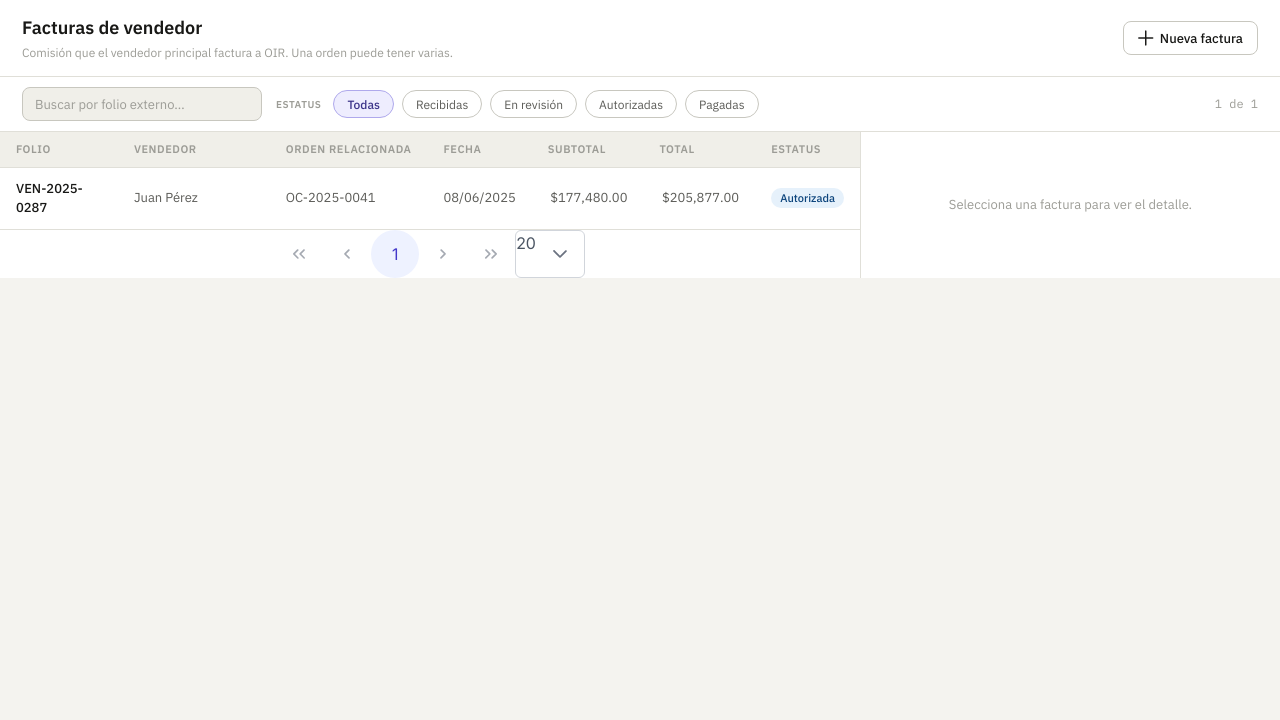
Test case: FacturasVendedorPage — paridad con Facturas de agencia › el timeline muestra las 4 fases reales, en orden
Click the text "VEN-2025-0287" at [59, 198], box [0, 167, 118, 229]
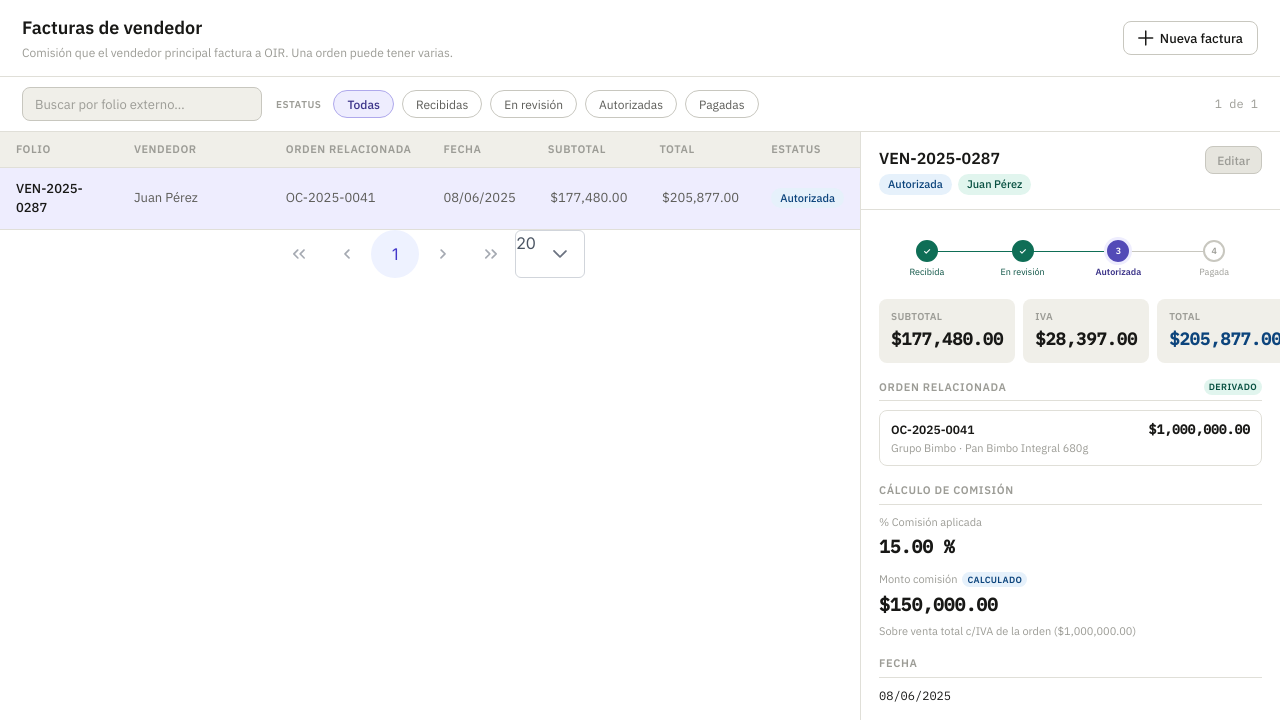
Result: the text "Cálculo de comisión" is shown at [879, 482, 1262, 505]
Result: the 3rd text "Autorizada" is shown at [1096, 266, 1141, 277]
